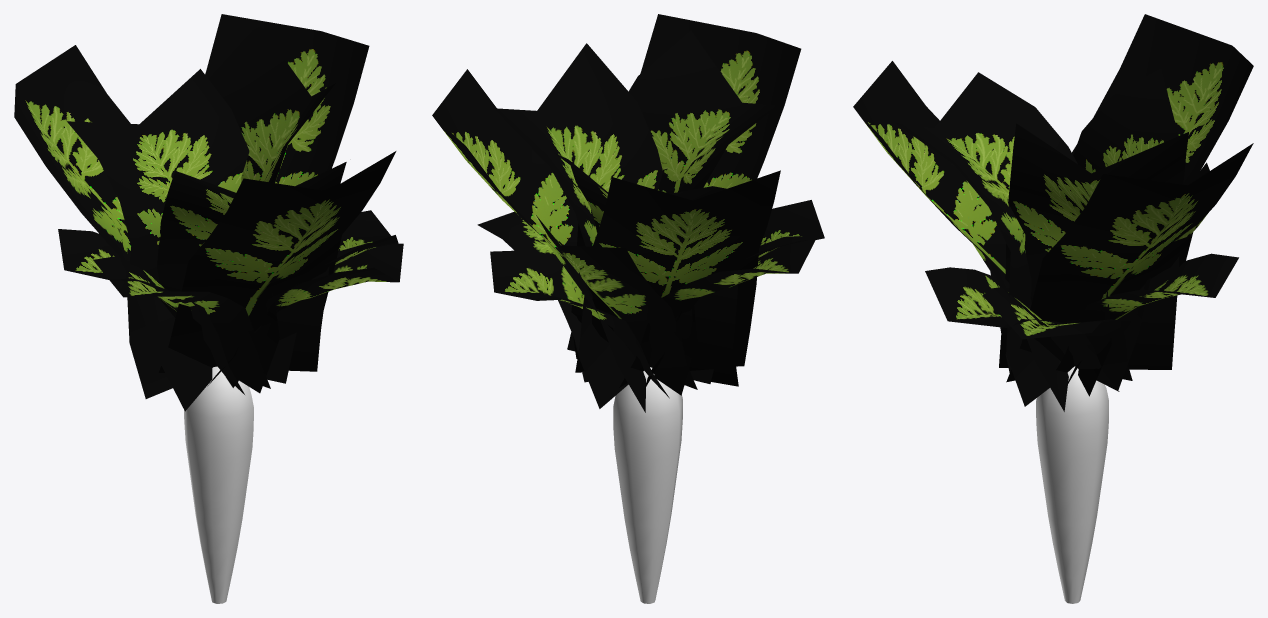
3 views of the same model, side by side, from view 1: azimuth 30°, elevation 25°; view 2: azimuth 150°, elevation 25°; view 3: azimuth 270°, elevation 25° (orthographic).
Visible parts, largest first — view 1: 萝卜03; view 2: 萝卜03; view 3: 萝卜03.
Part boxes in pixels (box(x1,y1,x2,y2)): 萝卜03: box(14, 14, 403, 603); 萝卜03: box(432, 14, 824, 603); 萝卜03: box(853, 14, 1253, 603).
Bounding box in the file's own units: 68.53 × 101 × 70.41.
2 materials, 1 textured.
